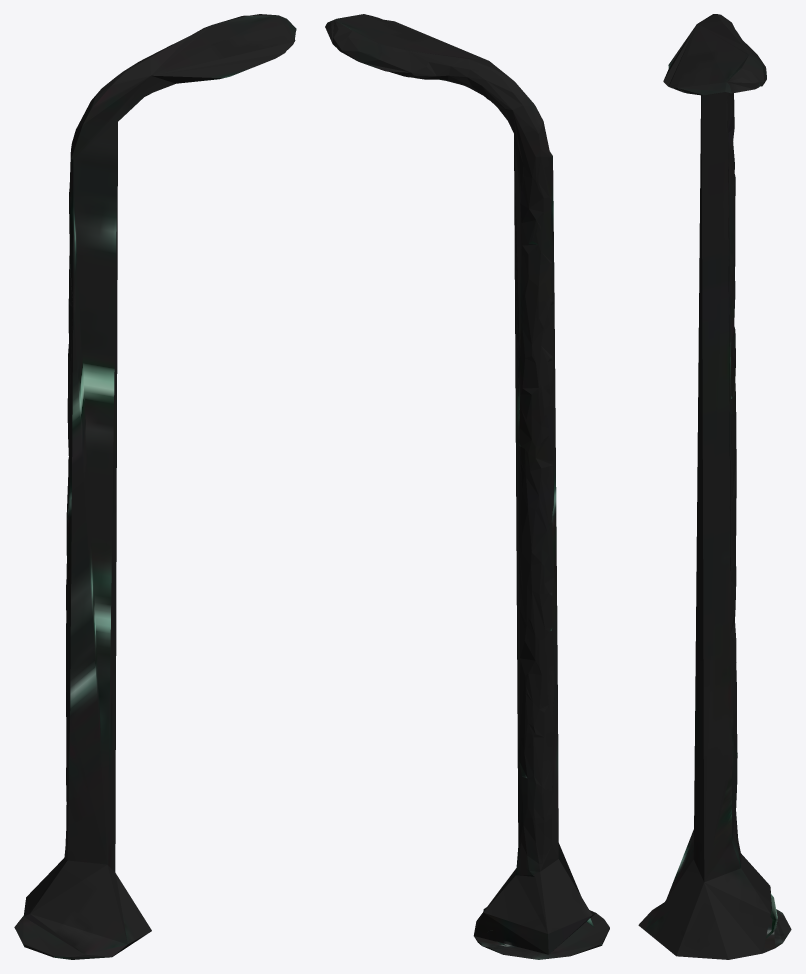
The model's file is prop-street-lamp-lod2.glb.
3 renders of one model, left to right at view 1: azimuth 30°, elevation 25°; view 2: azimuth 150°, elevation 25°; view 3: azimuth 270°, elevation 25°, orthographic. The views are drawn at different scales.
Visible parts, largest first — view 1: material; view 2: material; view 3: material.
Part boxes in pixels (bbox=[...]): material: bbox=[14, 14, 296, 959]; material: bbox=[325, 14, 609, 959]; material: bbox=[638, 14, 791, 959].
Bounding box in the file's own units: 0.3701 × 1.14 × 0.1654.
1 material, 1 textured.
